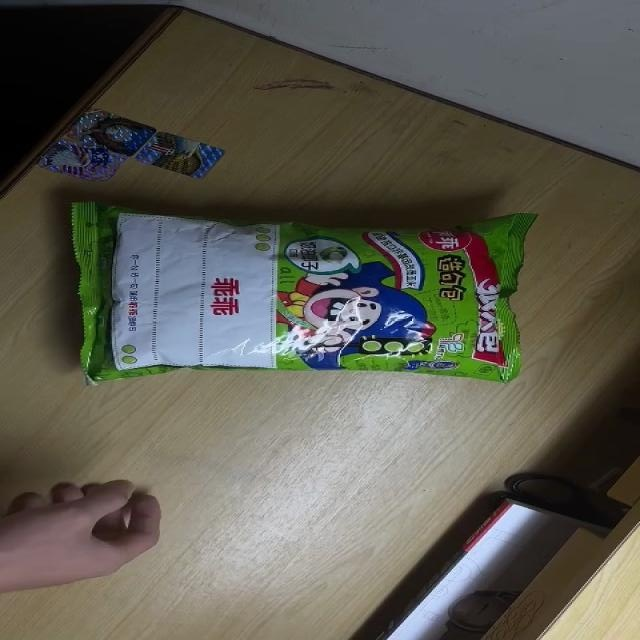Good-Luck: (72, 201, 539, 385)
